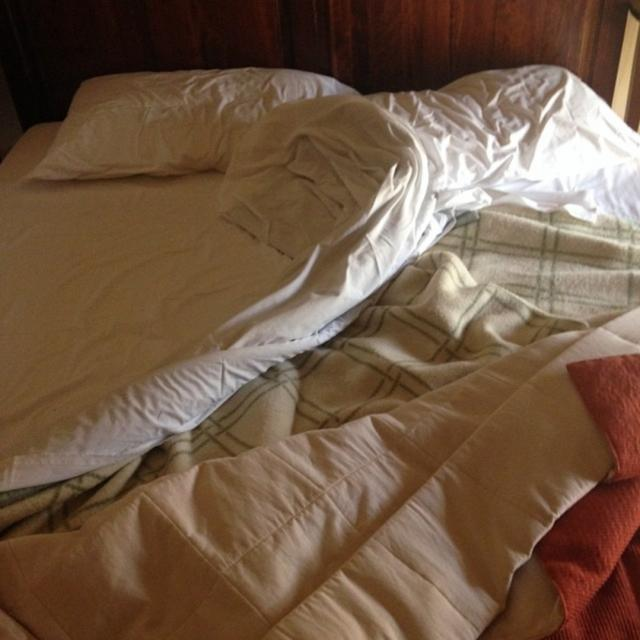bed: (13, 57, 640, 640)
